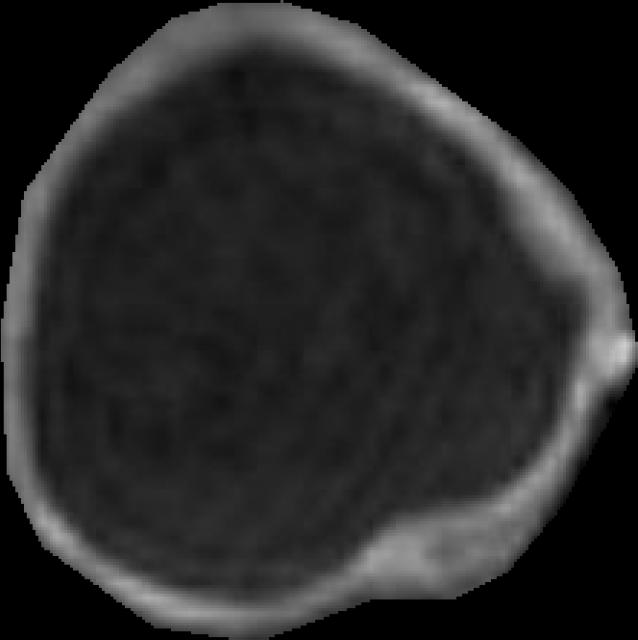tumor_good_chance: (1, 0, 638, 640)
